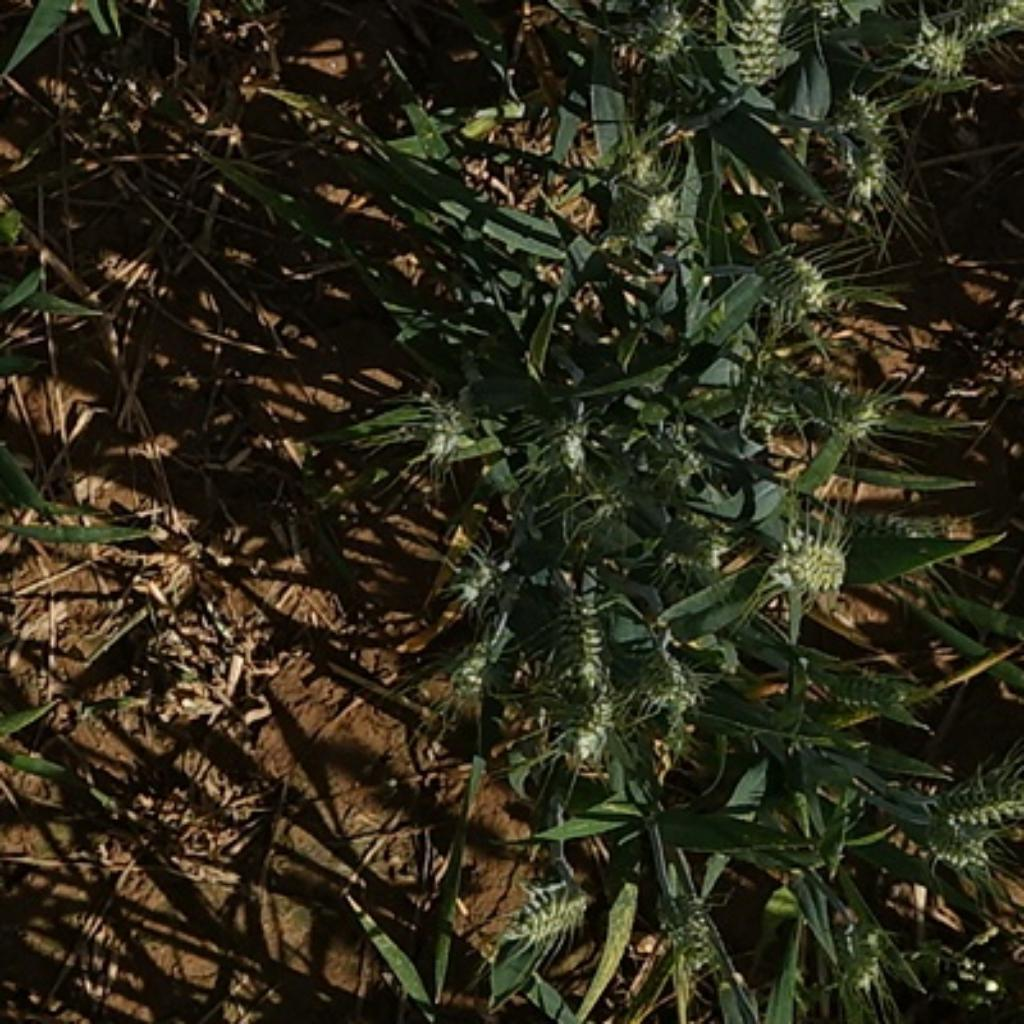0-0: (814, 74, 901, 202), (602, 139, 698, 233), (624, 628, 714, 728), (791, 652, 924, 719), (435, 527, 524, 624), (657, 875, 734, 985), (814, 903, 901, 995), (527, 407, 614, 499), (540, 573, 614, 680), (929, 752, 1024, 834), (760, 522, 852, 604), (744, 238, 834, 320), (742, 343, 814, 440), (437, 622, 514, 711), (503, 874, 594, 947), (921, 808, 1003, 888), (409, 384, 481, 471), (724, 0, 793, 89), (611, 0, 704, 66), (650, 504, 727, 581), (540, 686, 611, 762), (642, 417, 721, 483), (824, 373, 893, 448), (934, 0, 1024, 51), (913, 15, 970, 76)
